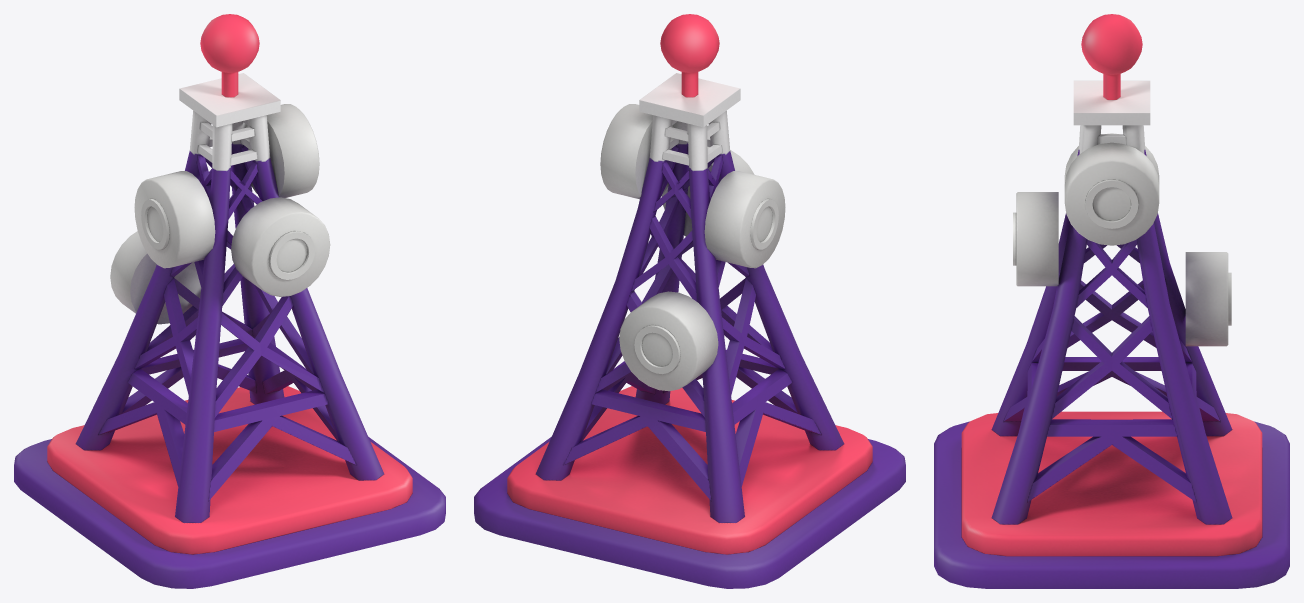
The model's file is stc_map_icon.glb.
3 views of the same model, side by side, from view 1: azimuth 30°, elevation 25°; view 2: azimuth 150°, elevation 25°; view 3: azimuth 270°, elevation 25° (orthographic). The views are drawn at different scales.
Visible parts, largest first — view 1: tower.001; view 2: tower.001; view 3: tower.001.
Boxes of the visible parts, x1,y1,x2,y2 form: tower.001: (14,14,445,588); tower.001: (474,14,905,588); tower.001: (934,14,1289,588).
Bounding box in the file's own units: 1.81 × 2.78 × 1.81.
1 material, 1 textured.
